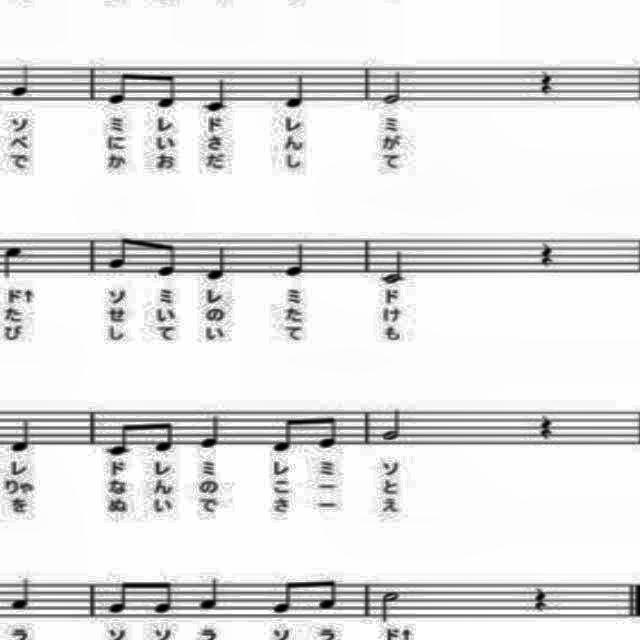Eighth-note: (100, 64, 136, 108), (316, 408, 348, 454), (145, 574, 179, 616), (101, 416, 133, 460), (270, 414, 302, 458), (147, 412, 177, 458), (268, 574, 296, 622), (155, 233, 181, 283), (106, 232, 138, 272), (102, 574, 134, 614), (156, 68, 184, 112), (312, 575, 340, 613)
Half-note: (378, 65, 407, 107), (380, 248, 410, 288), (380, 406, 408, 446), (377, 582, 403, 624)
Quarter-note: (277, 68, 313, 114), (198, 74, 234, 116), (0, 234, 30, 282), (280, 238, 312, 282), (198, 407, 226, 455), (203, 242, 233, 286), (8, 572, 36, 618), (193, 572, 224, 612), (6, 62, 34, 102), (8, 413, 34, 455)
Quarter-rest: (536, 403, 560, 445), (534, 238, 562, 270), (537, 62, 559, 98), (530, 582, 552, 618)
